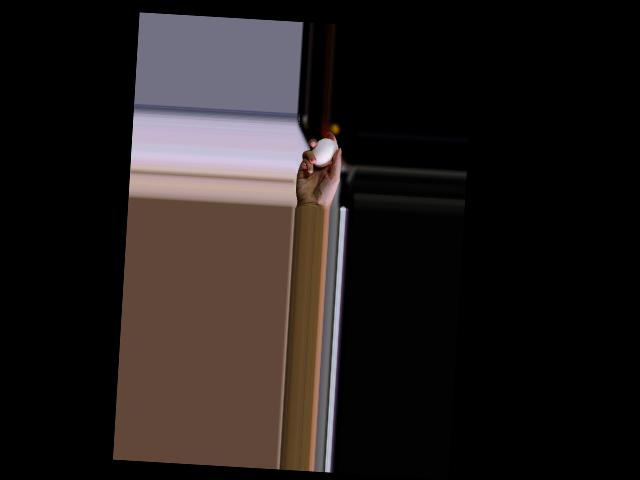egg: (311, 136, 337, 167)
